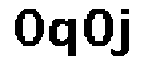0: (13, 4, 46, 49), (82, 6, 115, 47)
j: (111, 3, 135, 60)
q: (49, 14, 78, 60)
